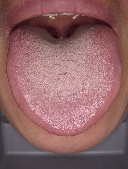tongue: (5, 48, 123, 137)
